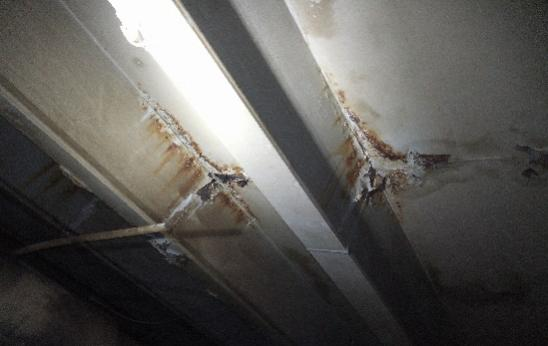corrosion: (358, 132, 453, 207), (140, 108, 206, 206), (198, 178, 251, 229), (339, 141, 363, 179)
